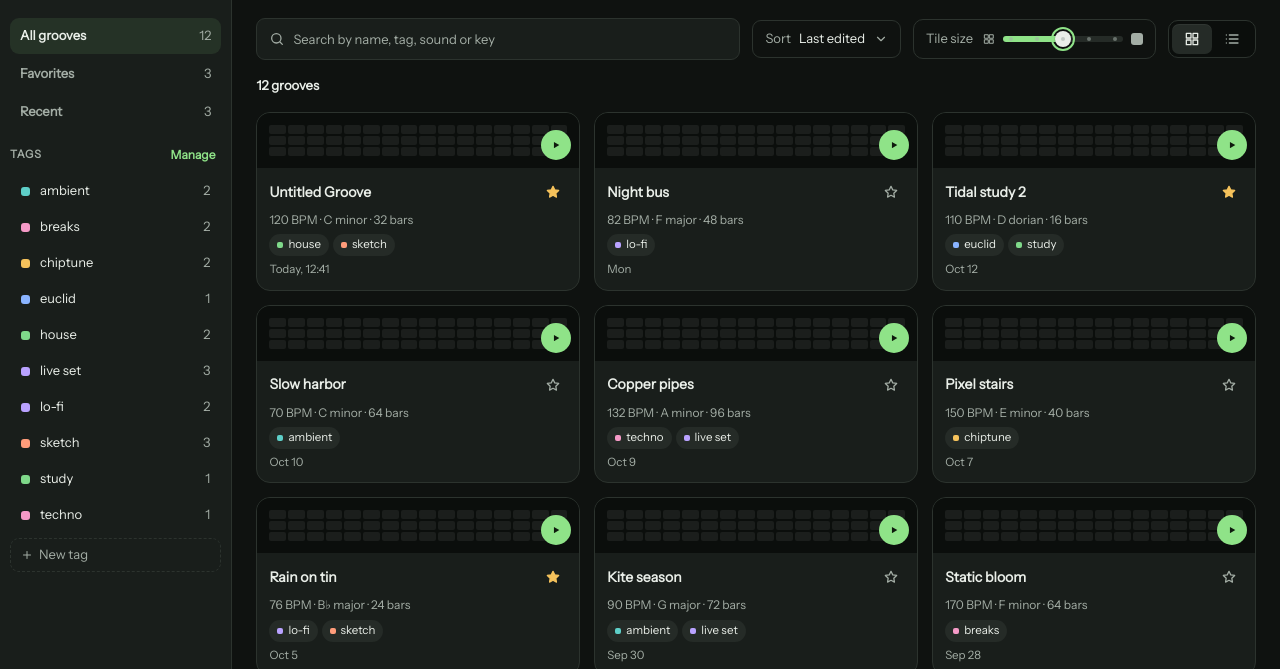
GrooveBrowser › should change the tile size and hide it in list view
Check: the text "12 grooves" is shown, box x1=256 y1=77 x2=319 y2=95
Press Arrowright
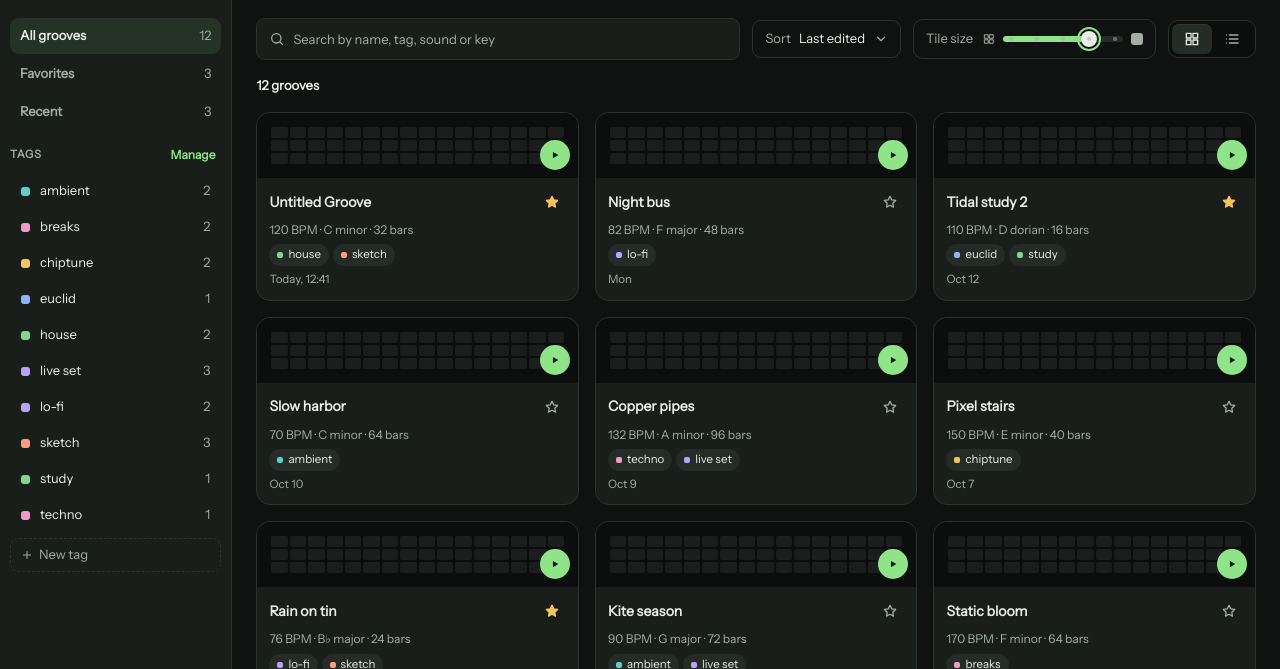
Check: the slider named "Tile size" has attribute aria-valuetext="Large", box x1=1003 y1=29 x2=1123 y2=49
Click the button named "List view" at (1232, 39), box x1=1212 y1=24 x2=1252 y2=54
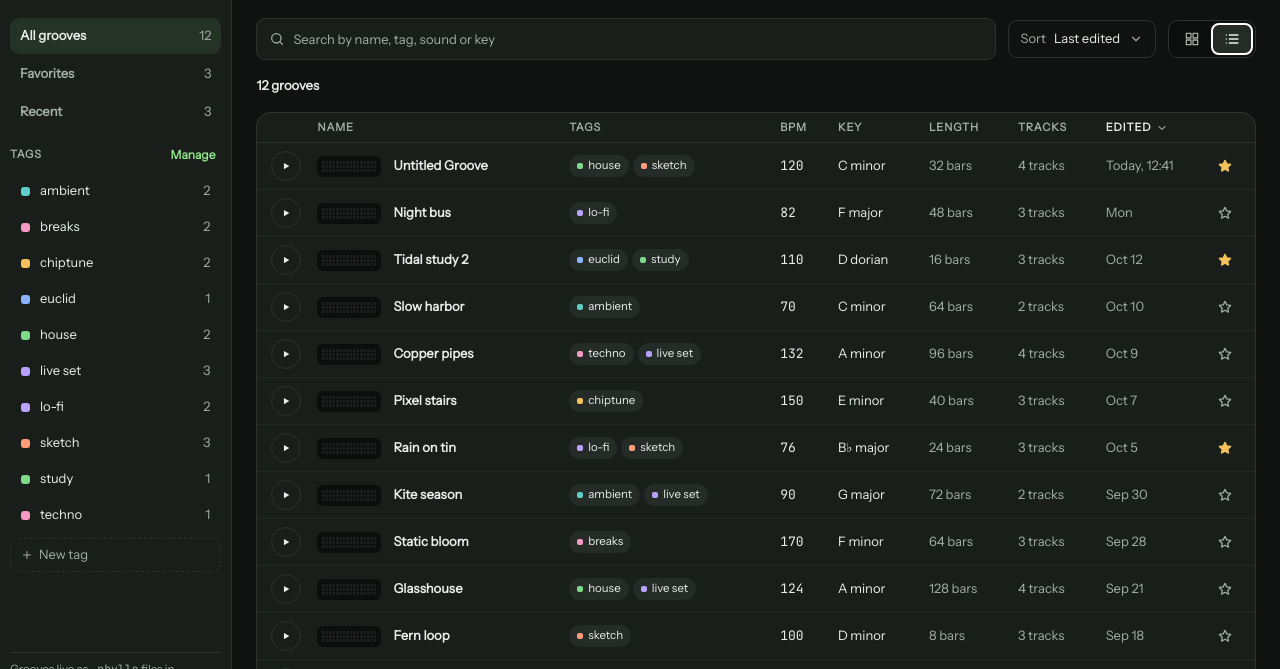
Check: the text "Tile size" is gone
